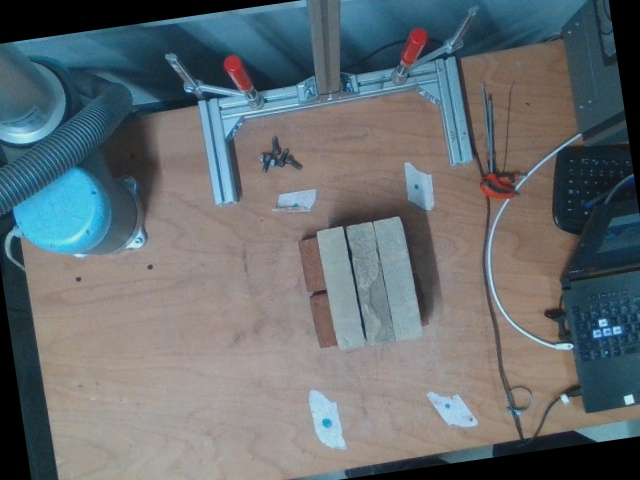brick-side: (372, 217, 424, 342), (345, 222, 397, 347), (315, 227, 367, 351)
